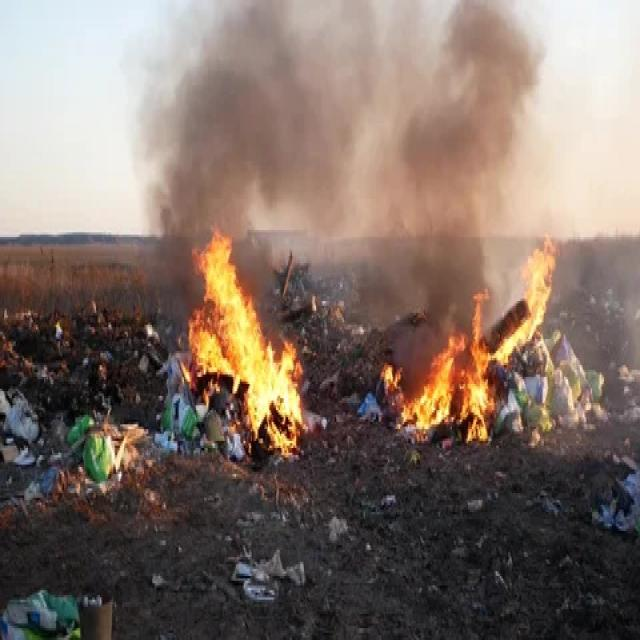fire: (179, 228, 302, 460), (423, 334, 493, 439), (528, 237, 557, 327), (402, 401, 450, 433), (496, 319, 528, 363)
